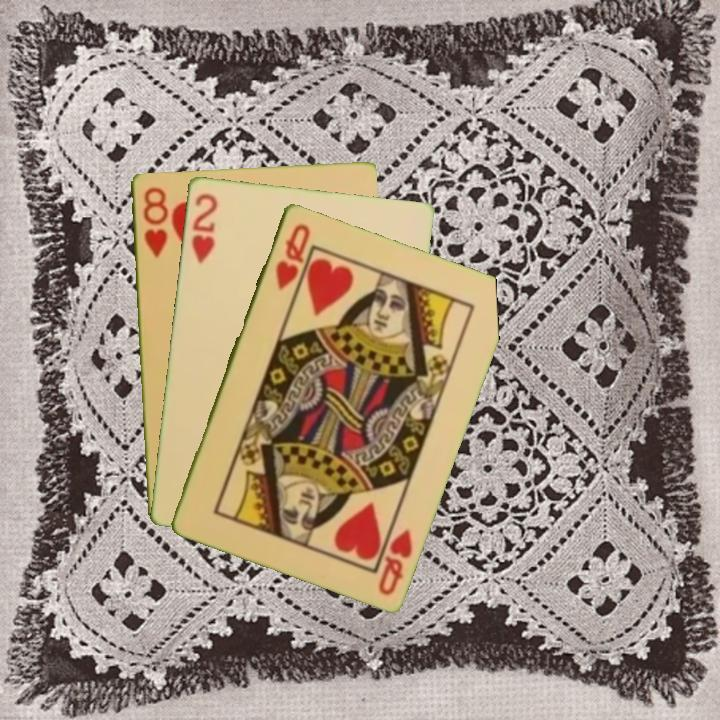2h: (188, 189, 220, 266)
8h: (139, 183, 170, 260)
Qh: (372, 514, 415, 598), (271, 219, 313, 293)
